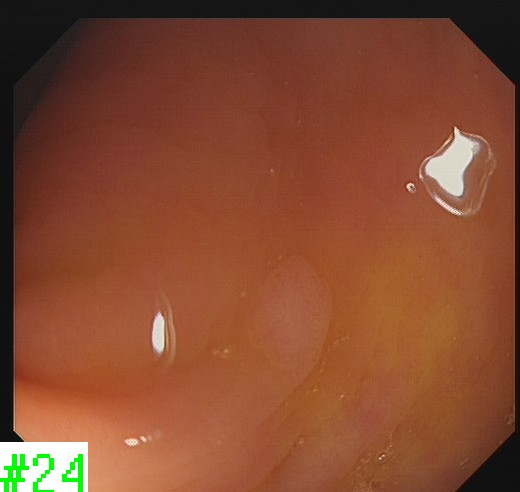others: (248, 251, 334, 380)
